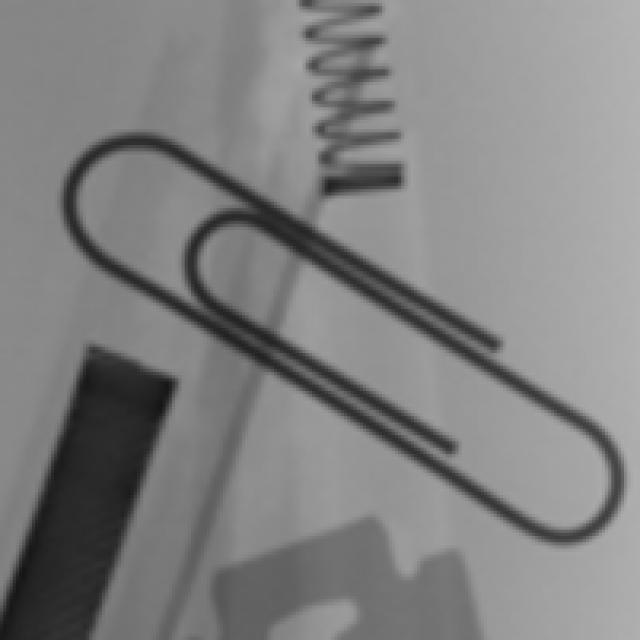GUN: (8, 348, 204, 640)
